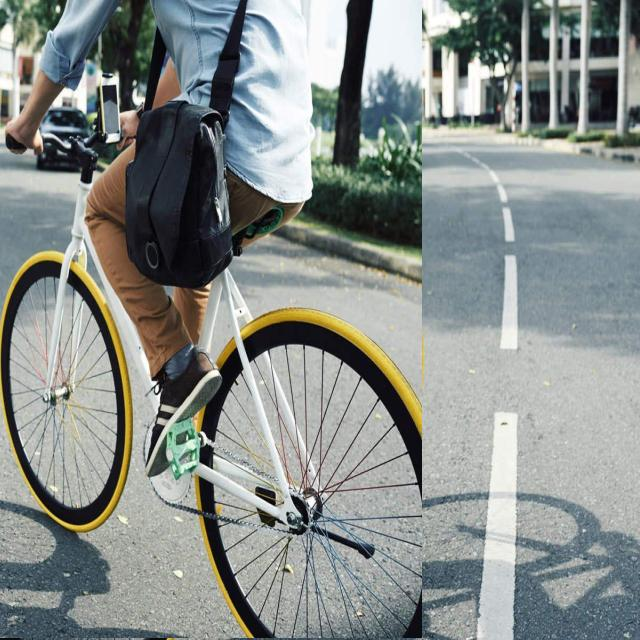bicycle: (0, 0, 422, 638)
